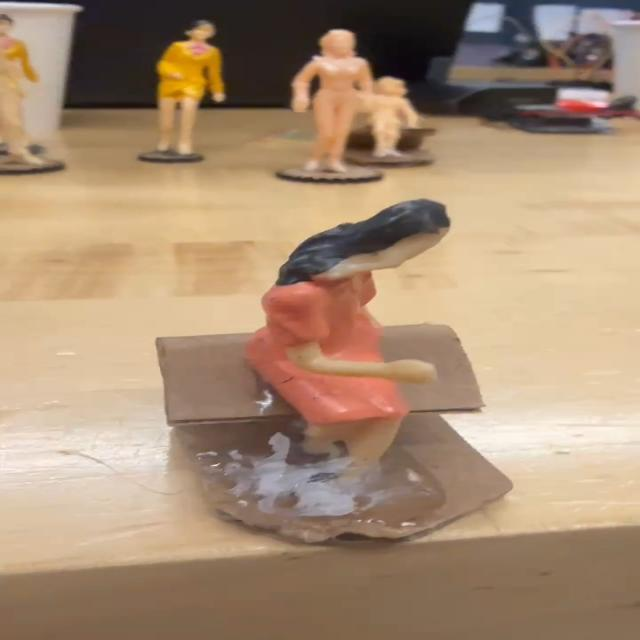Authorized: (226, 190, 482, 518)
